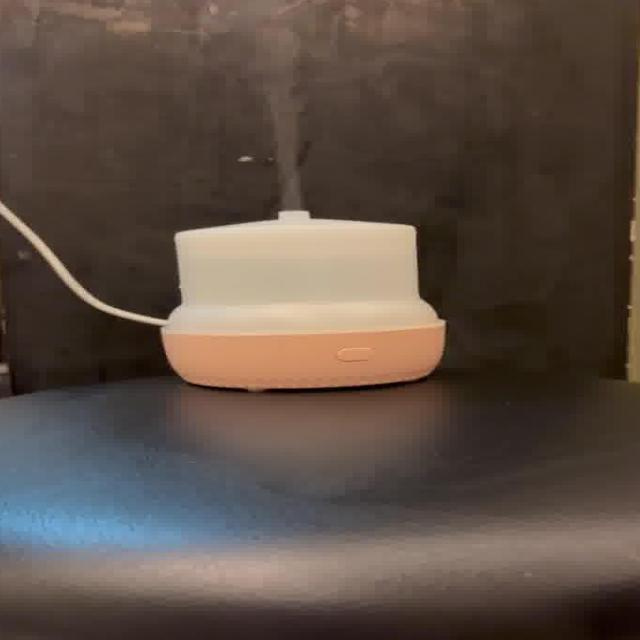fire: (252, 68, 318, 206)
